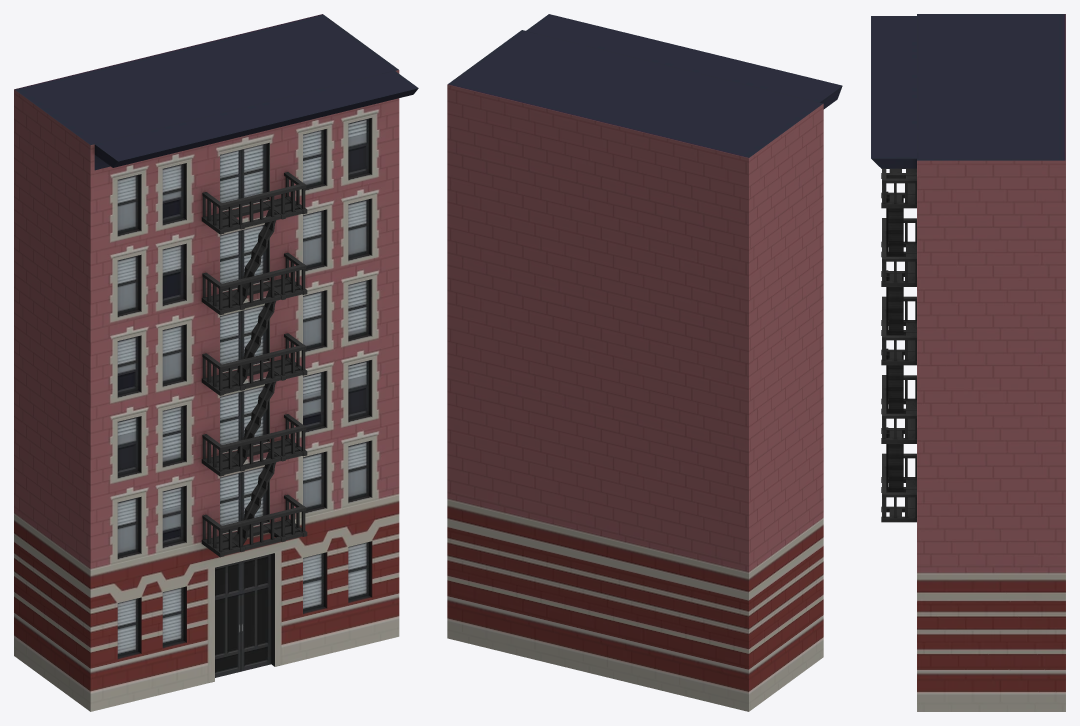
The model's file is apartment_building_free_model.glb.
3 renders of one model, left to right at view 1: azimuth 30°, elevation 25°; view 2: azimuth 150°, elevation 25°; view 3: azimuth 270°, elevation 25°, orthographic. The views are drawn at different scales.
Visible parts, largest first — view 1: Apartment_mesh; view 2: Apartment_mesh; view 3: Apartment_mesh.
Part boxes in pixels (left/top/right/bottom): Apartment_mesh: left=14, top=14, right=418, bottom=711; Apartment_mesh: left=447, top=14, right=842, bottom=711; Apartment_mesh: left=871, top=14, right=1065, bottom=711.
Bounding box in the file's own units: 10.32 × 18.1 × 5.79.
Materials: 1 (1 with a texture image).
